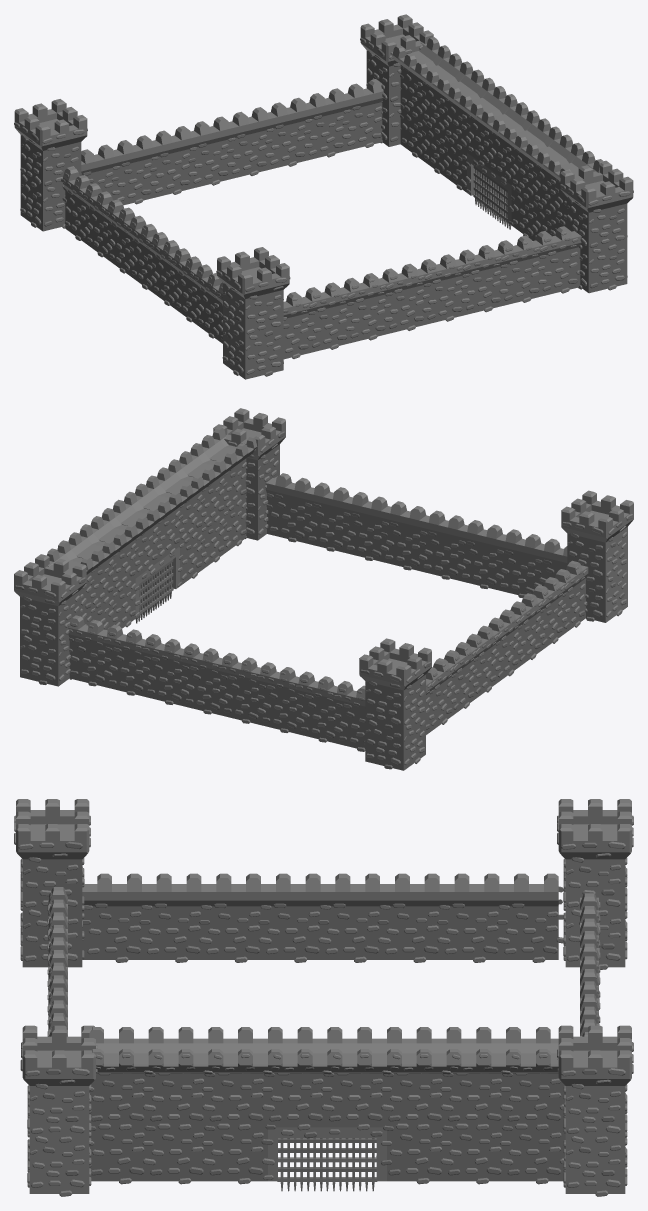
The model's file is castle.fbx.
3 renders of one model, top to bottom at view 1: azimuth 30°, elevation 25°; view 2: azimuth 150°, elevation 25°; view 3: azimuth 270°, elevation 25°, orthographic. The views are drawn at different scales.
Parts seen in each view (by area): view 1: Cube.842, Cube.808, Cube.839, Cube.806, Cube.807, Cube.838, Cube.841, Cube.772, Cube.837, Cube.840, Cube.823, Cube.813 (+68 smaller); view 2: Cube.842, Cube.808, Cube.772, Cube.840, Cube.841, Cube.771, Cube.807, Cube.774, Cube.839, Cube.806, Cube.823, Cube.778 (+67 smaller); view 3: Cube.808, Cube.842, Cube.772, Cube.839, Cube.690, Cube.837, Cube.774, Cube.838, Cube.771, Cube.800, Cube.792, Cube.835 (+40 smaller).
Part boxes in pixels (x1,y1,x2,y2): Cube.842: (14,99,87,150); Cube.808: (216,247,290,298); Cube.839: (560,160,633,212); Cube.806: (222,322,283,379); Cube.807: (222,283,283,339); Cube.838: (566,197,627,252); Cube.841: (20,135,81,191); Cube.772: (360,14,433,66); Cube.837: (578,244,627,293); Cube.840: (20,174,65,231); Cube.823: (538,247,580,296); Cube.813: (345,294,392,343); Cube.842: (359,638,431,690); Cube.808: (561,490,633,542); Cube.772: (14,554,86,606); Cube.840: (365,715,425,770); Cube.841: (365,674,425,730); Cube.771: (20,590,80,646); Cube.807: (567,526,627,582); Cube.774: (20,635,71,686); Cube.839: (213,408,285,460); Cube.806: (585,567,627,622); Cube.823: (266,493,312,542); Cube.778: (142,656,189,706); Cube.808: (14,799,90,859); Cube.842: (557,799,633,859); Cube.772: (557,1025,633,1085); Cube.839: (20,1025,97,1085); Cube.690: (277,1138,377,1191); Cube.837: (27,1118,91,1196); Cube.774: (563,1132,627,1196); Cube.838: (27,1083,91,1142); Cube.771: (563,1083,627,1142); Cube.800: (142,1123,215,1184); Cube.792: (376,1123,453,1184); Cube.835: (437,903,509,962).
Size of the model in its own units: 2059 by 571 by 2082.
